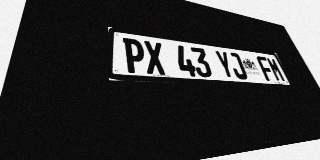3: (190, 47, 213, 78)
4: (174, 45, 197, 77)
F: (256, 56, 277, 81)
J: (227, 52, 249, 80)
M: (266, 57, 286, 82)
P: (123, 38, 146, 74)
X: (143, 40, 167, 75)
Y: (214, 50, 236, 79)
